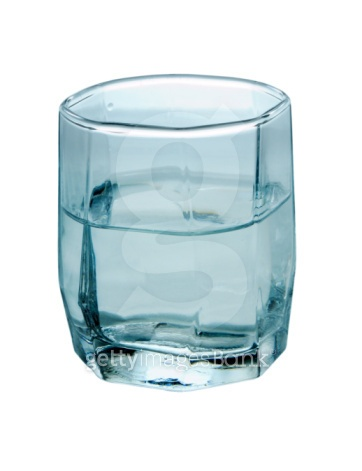glass of water: (54, 73, 303, 392)
